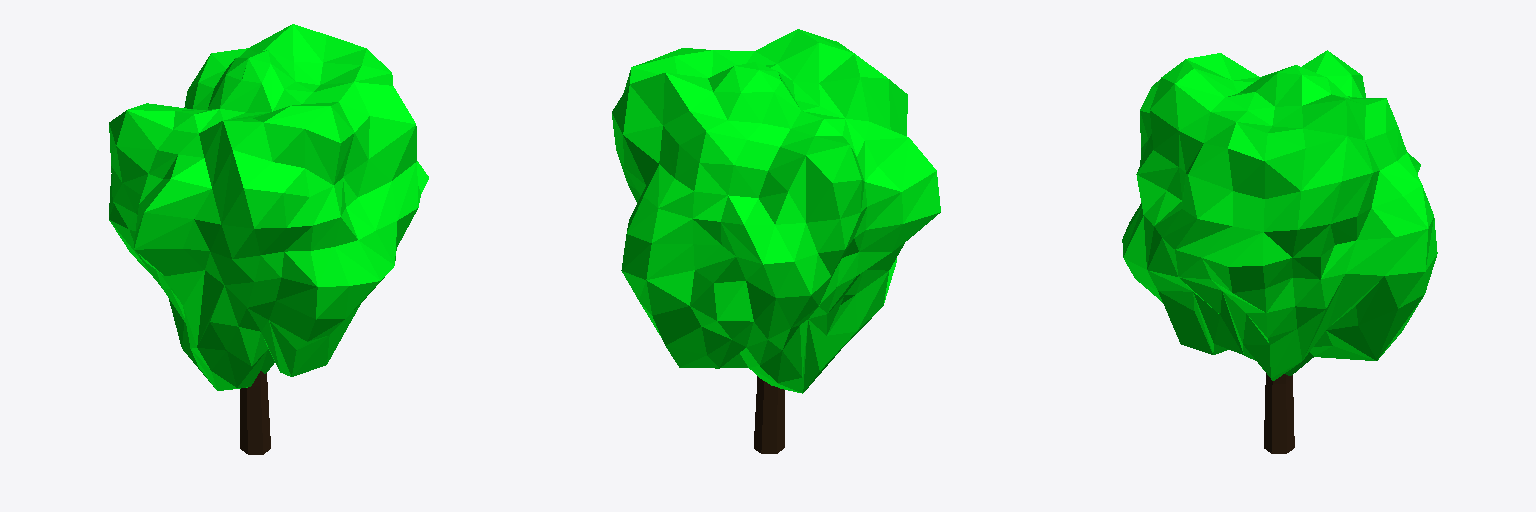
File: tree_a.obj
The picture shows the model from 3 angles: view 1: azimuth 30°, elevation 25°; view 2: azimuth 150°, elevation 25°; view 3: azimuth 270°, elevation 25°; orthographic projection.
Parts seen in each view (by area): view 1: tree_a; view 2: tree_a; view 3: tree_a.
Boxes of the visible parts, x1=… form: tree_a: x1=109, y1=24, x2=428, y2=454; tree_a: x1=612, y1=29, x2=940, y2=453; tree_a: x1=1122, y1=50, x2=1437, y2=453.
Bounding box in the file's own units: 16.67 × 20.78 × 15.43.